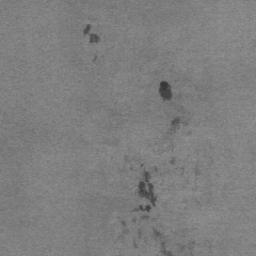Iron scale compression: (135, 171, 155, 212), (151, 230, 176, 256), (163, 114, 180, 138), (83, 26, 100, 44), (160, 81, 172, 99)
